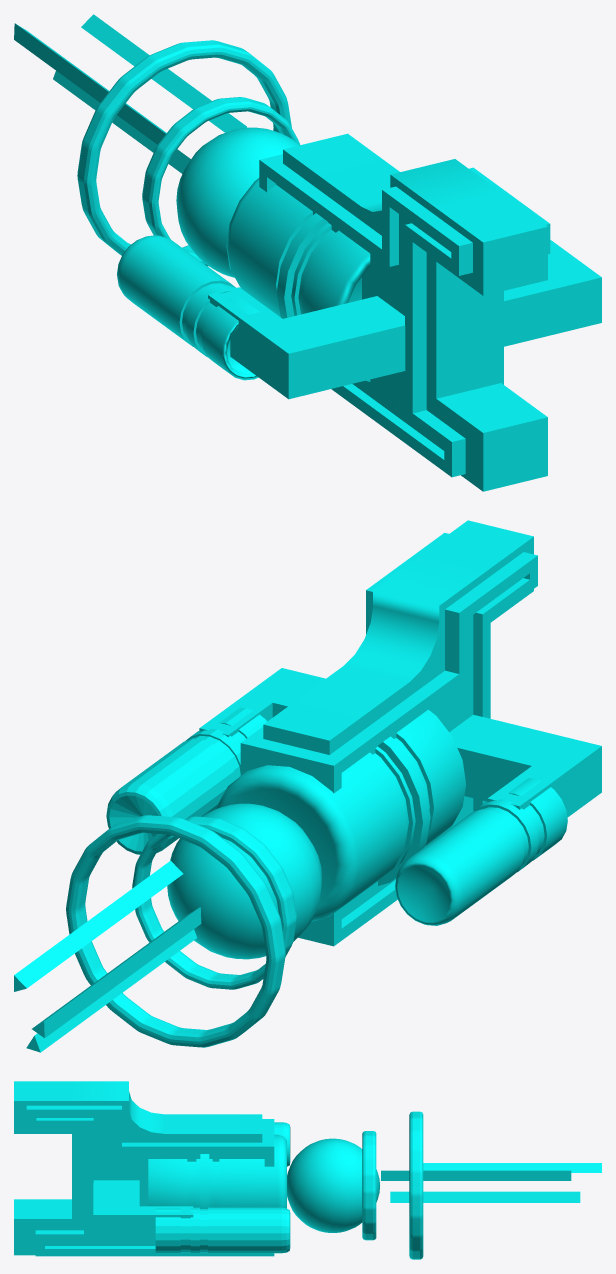
File: CannoneVulcan.fbx
3 renders of one model, top to bottom at view 1: azimuth 30°, elevation 25°; view 2: azimuth 150°, elevation 25°; view 3: azimuth 270°, elevation 25°, orthographic. The views are drawn at different scales.
Visible parts, largest first — view 1: Manico1, pCube3, RinforzoManico1, pCylinder5, pCylinder10, pSphere1, pCylinder9, pCylinder8, pCube4, pCube5, pCube6; view 2: pCylinder5, Manico1, RinforzoManico1, pCube3, pCylinder10, pSphere1, pCylinder9, pCylinder6, pCylinder8, pCube4, pCube5, pCube6; view 3: RinforzoManico1, Manico1, pCylinder5, pSphere1, pCylinder6, pCube3, pCylinder9, pCube6, pCube4, pCylinder8, pCube5, pCylinder10.
Boxes of the visible parts, x1,y1,x2,y2 form: Manico1: [283, 133, 547, 491]; pCube3: [208, 240, 601, 399]; RinforzoManico1: [259, 154, 550, 477]; pCylinder5: [226, 178, 370, 381]; pCylinder10: [117, 235, 259, 380]; pSphere1: [176, 127, 300, 277]; pCylinder9: [77, 40, 291, 255]; pCylinder8: [142, 97, 299, 266]; pCube4: [81, 14, 246, 132]; pCube5: [14, 23, 166, 144]; pCube6: [53, 71, 190, 173]; pCylinder5: [215, 709, 466, 921]; Manico1: [263, 520, 533, 754]; RinforzoManico1: [240, 532, 537, 946]; pCube3: [199, 668, 601, 817]; pCylinder10: [395, 778, 567, 925]; pSphere1: [167, 803, 322, 959]; pCylinder9: [66, 815, 285, 1047]; pCylinder6: [106, 707, 267, 854]; pCylinder8: [132, 816, 296, 989]; pCube4: [14, 860, 183, 991]; pCube5: [32, 907, 201, 1038]; pCube6: [26, 929, 196, 1052]; RinforzoManico1: [26, 1105, 274, 1256]; Manico1: [14, 1081, 262, 1255]; pCylinder5: [148, 1134, 286, 1208]; pSphere1: [287, 1138, 379, 1232]; pCylinder6: [155, 1207, 290, 1253]; pCube3: [93, 1180, 193, 1243]; pCylinder9: [409, 1111, 423, 1259]; pCube6: [390, 1191, 580, 1202]; pCube4: [381, 1170, 571, 1180]; pCylinder8: [362, 1131, 376, 1240]; pCube5: [423, 1163, 601, 1172]; pCylinder10: [274, 1122, 290, 1166].
Bounding box in the file's own units: 1.31 × 0.9512 × 3.09.
